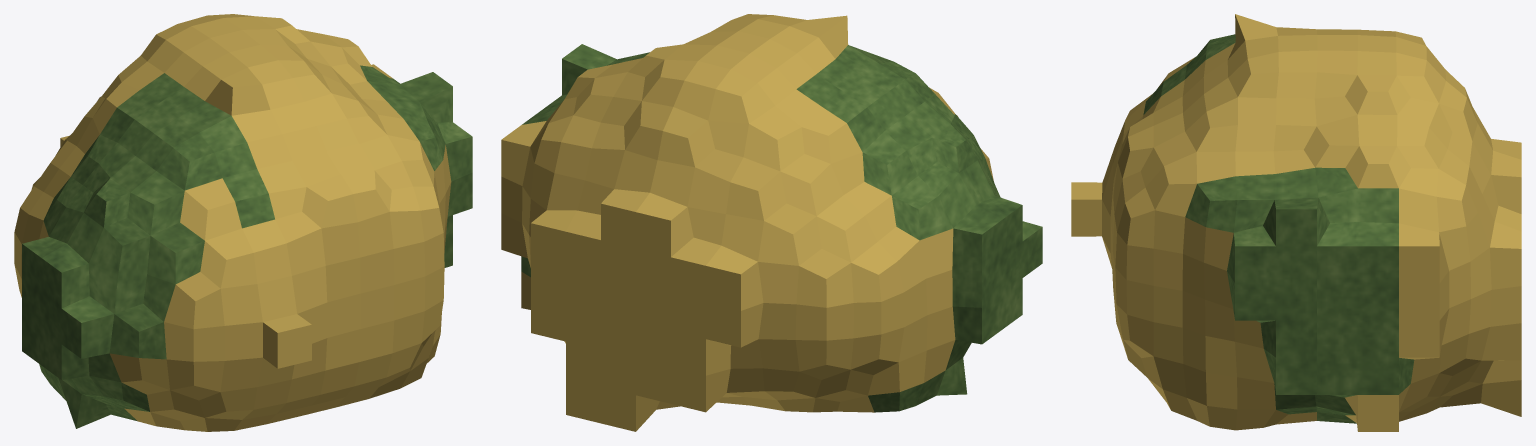
File: shrub_autumn_snow.glb
3 renders of one model, left to right at view 1: azimuth 30°, elevation 25°; view 2: azimuth 150°, elevation 25°; view 3: azimuth 270°, elevation 25°, orthographic. The views are drawn at different scales.
Parts seen in each view (by area): view 1: wilds_shrub_autumn_snow; view 2: wilds_shrub_autumn_snow; view 3: wilds_shrub_autumn_snow.
Part boxes in pixels (x1=…): wilds_shrub_autumn_snow: x1=14, y1=14, x2=472, y2=431; wilds_shrub_autumn_snow: x1=501, y1=14, x2=1042, y2=431; wilds_shrub_autumn_snow: x1=1071, y1=14, x2=1521, y2=431.
Bounding box in the file's own units: 0.75 × 0.5625 × 0.6875.
2 materials, 1 textured.
